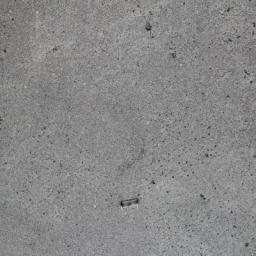FOD: (118, 199, 146, 214)
